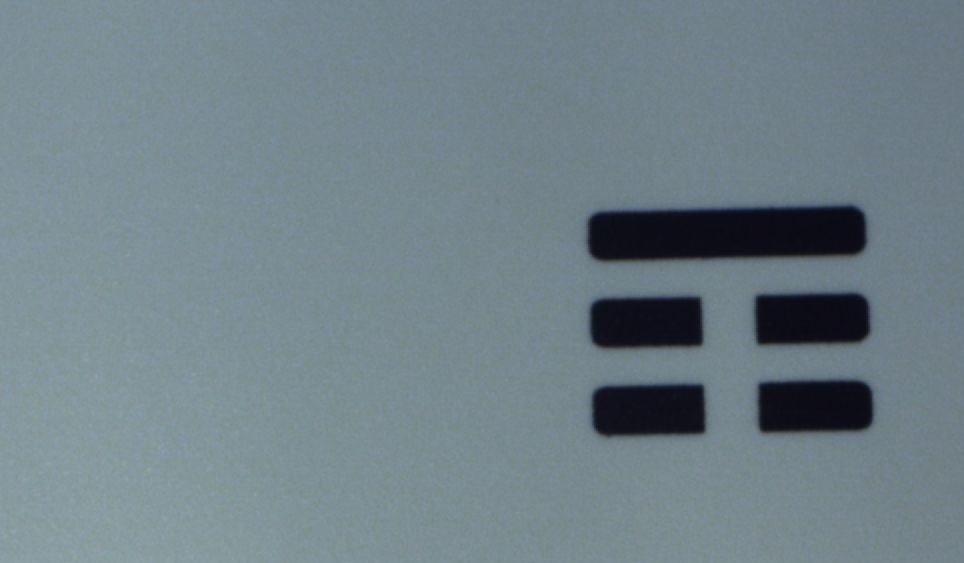BV_F6600PTIM: (553, 193, 894, 455)
